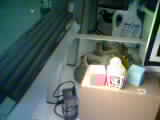duck: (94, 50, 130, 71)
